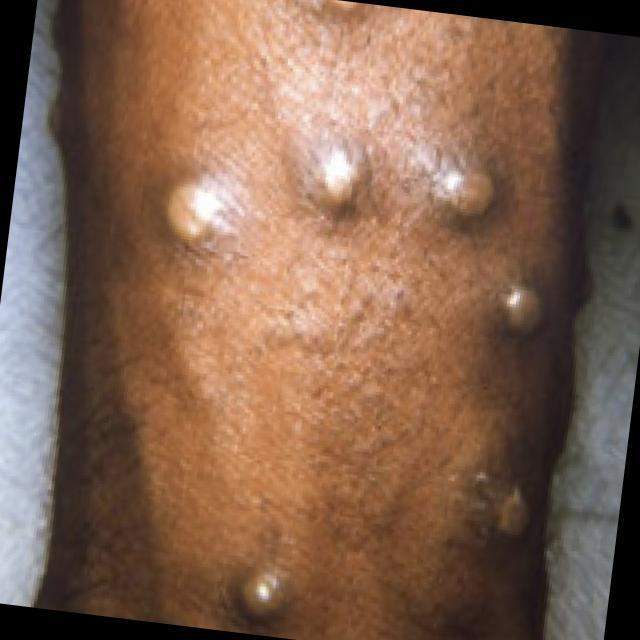Eczema: (162, 167, 234, 257), (426, 154, 499, 217), (307, 136, 362, 206), (242, 561, 290, 619), (498, 279, 539, 339), (500, 482, 531, 536)
